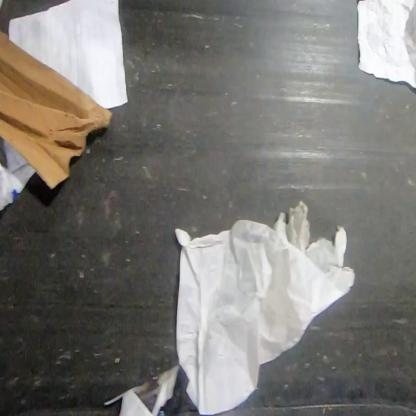cardboard: (0, 27, 115, 192)
